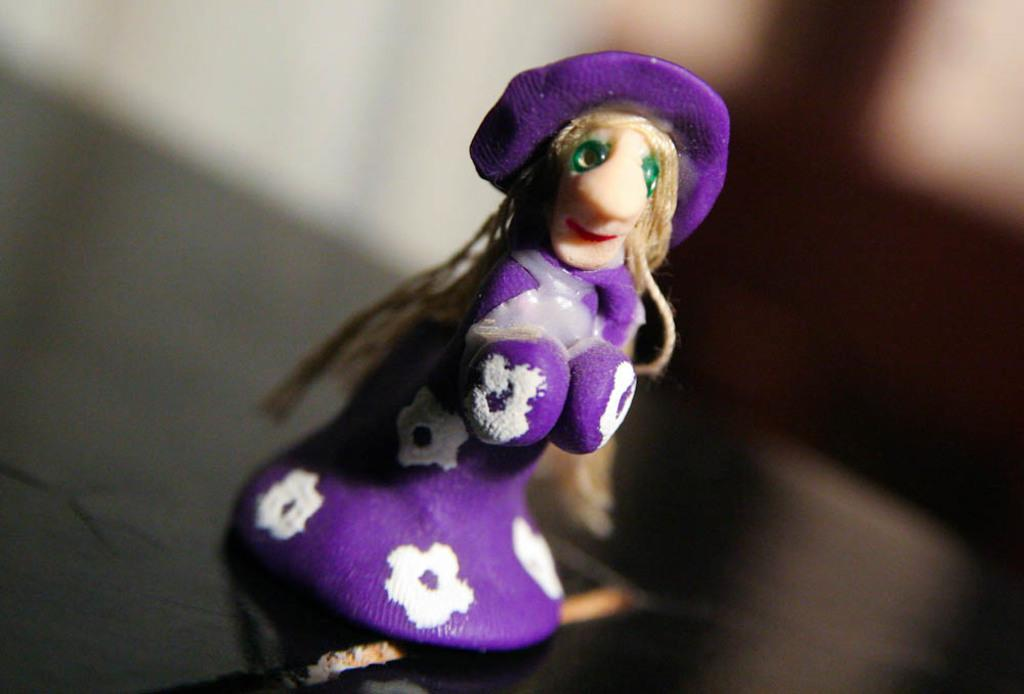Hat: (472, 50, 730, 249)
